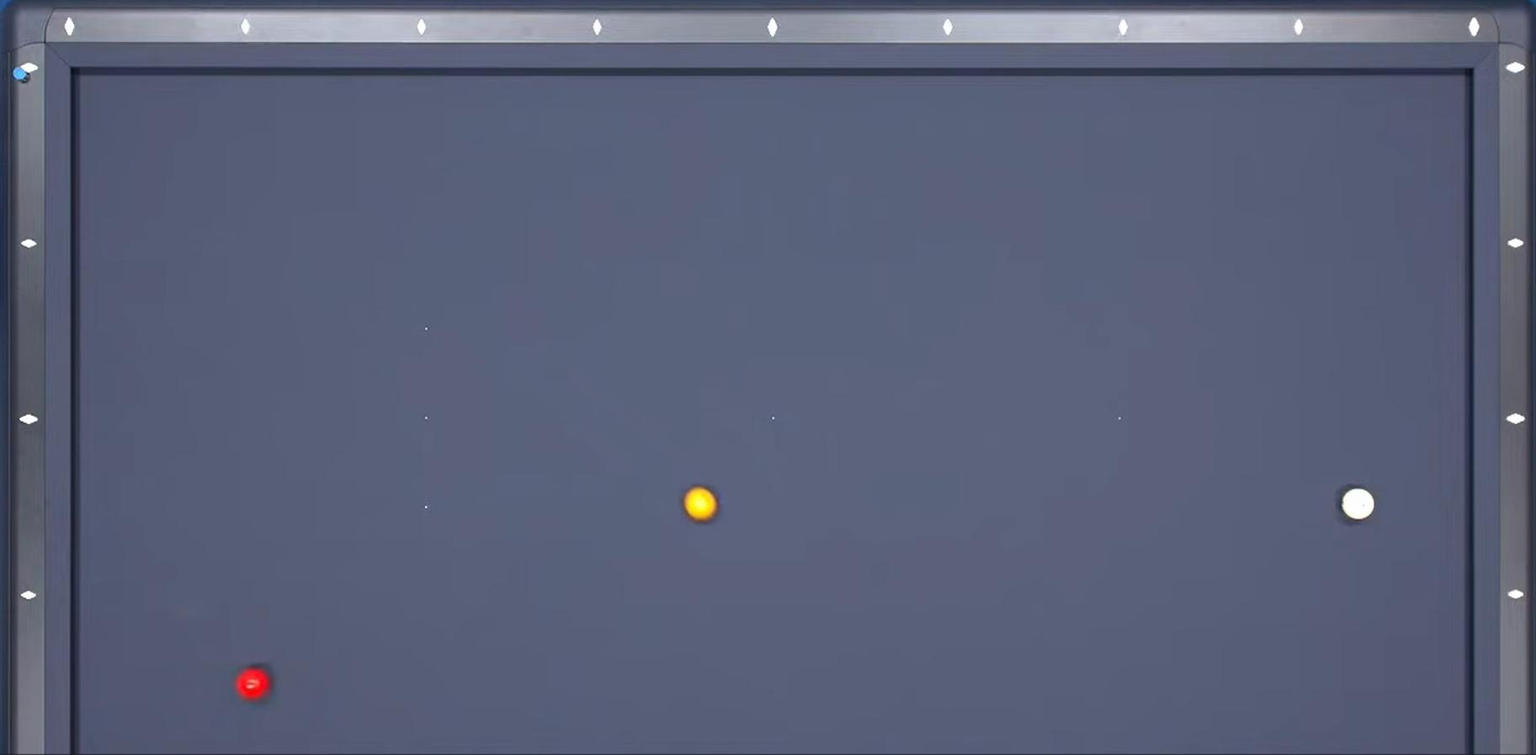red ball: (232, 663, 274, 705)
white ball: (1341, 485, 1375, 521)
yellow ball: (681, 479, 720, 527)
